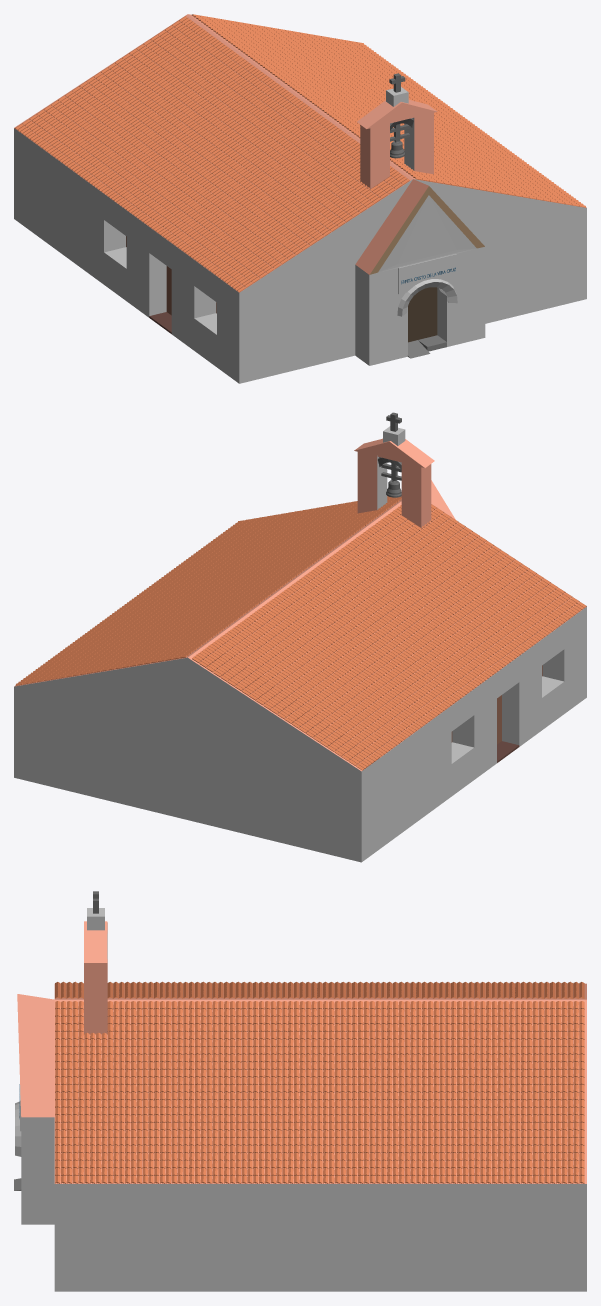
File: Ermita_Cristo_Veracruz_Fix.fbx
3 views of the same model, one above another, from view 1: azimuth 30°, elevation 25°; view 2: azimuth 150°, elevation 25°; view 3: azimuth 270°, elevation 25° (orthographic). The views are drawn at different scales.
Parts seen in each view (by area): view 1: Cube.085, Cube.003, Cube.038, Torus.012; view 2: Cube.003, Cube.085, Cube.038; view 3: Cube.003, Cube.085, Cube.038.
Boxes of the visible parts, x1=… form: Cube.085: x1=14, y1=14, x2=586, y2=383; Cube.003: x1=15, y1=14, x2=586, y2=292; Cube.038: x1=357, y1=73, x2=437, y2=188; Torus.012: x1=397, y1=279, x2=457, y2=316; Cube.003: x1=15, y1=496, x2=586, y2=770; Cube.085: x1=14, y1=480, x2=586, y2=862; Cube.038: x1=354, y1=412, x2=434, y2=527; Cube.003: x1=55, y1=981, x2=584, y2=1183; Cube.085: x1=14, y1=983, x2=586, y2=1291; Cube.038: x1=84, y1=891, x2=107, y2=1034.
Bounding box in the file's own units: 2207 × 1538 × 2665.
